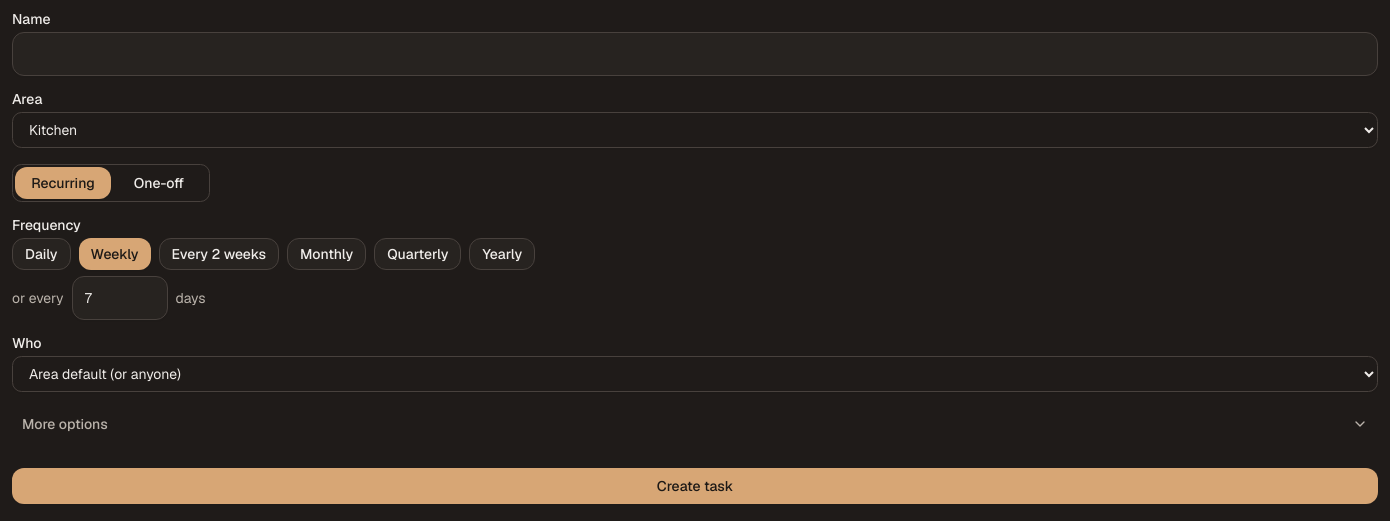
Scenario: TaskForm OOFT toggle (Phase 15 OOFT-04, D-01..D-03) › switching back to Recurring restores frequency input and hides due_date
Click the button "One-off".
click(159, 183)  # box [111, 167, 207, 199]
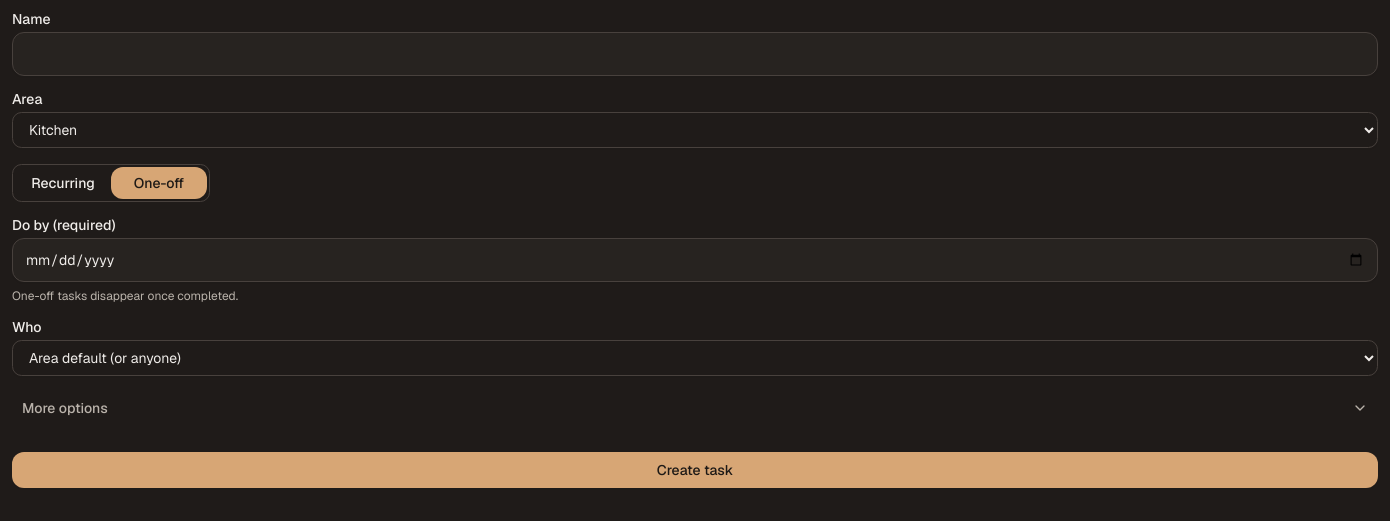
Expected: the date field labelled "Do by (required)" is shown, [12, 238, 1378, 282]
Click the button "Recurring".
click(63, 183)  # box [15, 167, 111, 199]
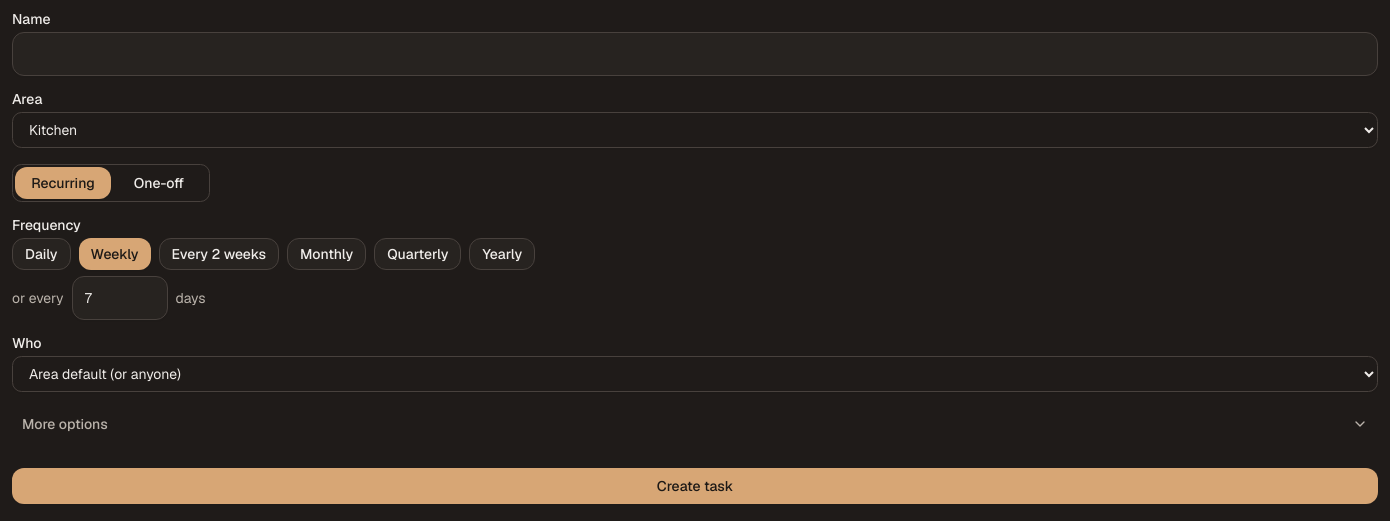
Expected: the number field labelled "Frequency" is shown, [72, 276, 168, 320]
Expected: the label labelled "Do by" is gone
